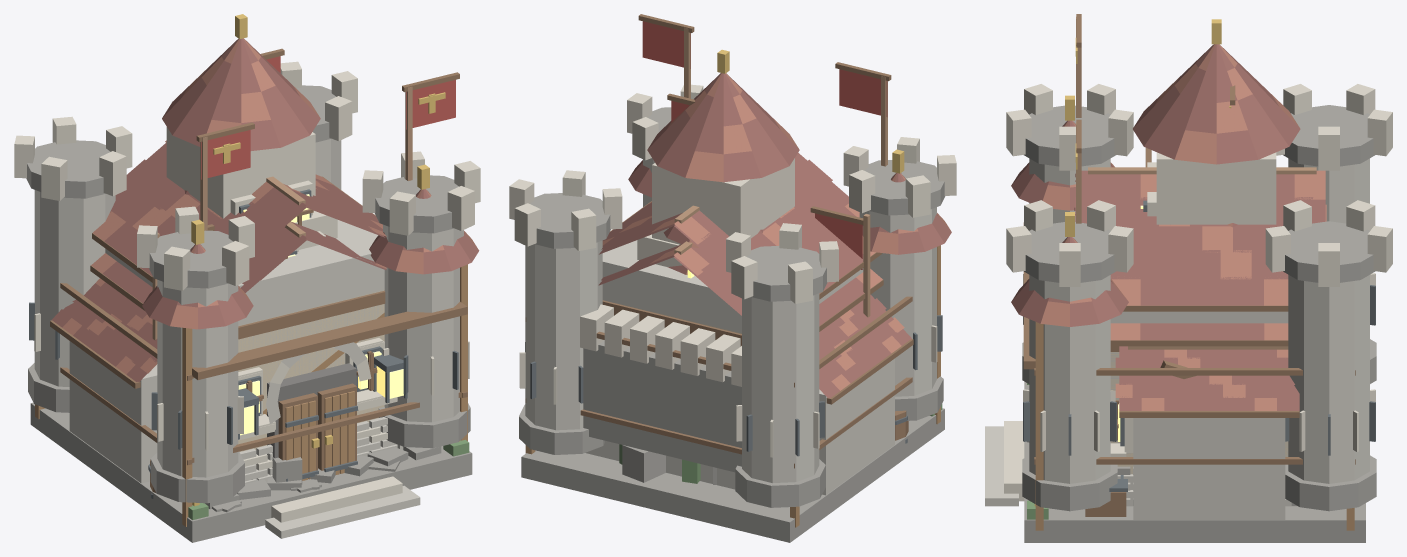
The model's file is headquarters_art.gltf.
The picture shows the model from 3 angles, left to right: view 1: azimuth 30°, elevation 25°; view 2: azimuth 150°, elevation 25°; view 3: azimuth 270°, elevation 25°; orthographic projection. The views are drawn at different scales.
Parts seen in each view (by area): view 1: Level_4, Level_1, Level_3, Level_2, Frame, Roof, Walls, Level_1_Broken, Ruins_Fresh, Damage_Marks; view 2: Level_4, Level_3, Level_1, Level_2, Roof, Frame, Ruins_Fresh; view 3: Level_4, Level_3, Level_2, Level_1, Frame, Roof.
Boxes of the visible parts, left/top/right/bottom form: Level_4: left=14, top=14, right=480, bottom=503; Level_1: left=30, top=48, right=472, bottom=542; Level_3: left=92, top=140, right=479, bottom=478; Level_2: left=50, top=224, right=214, bottom=483; Frame: left=35, top=264, right=467, bottom=526; Roof: left=90, top=221, right=386, bottom=310; Walls: left=238, top=289, right=397, bottom=451; Level_1_Broken: left=205, top=446, right=441, bottom=509; Ruins_Fresh: left=272, top=457, right=302, bottom=484; Damage_Marks: left=212, top=461, right=400, bottom=512; Level_4: left=509, top=14, right=956, bottom=507; Level_3: left=580, top=149, right=951, bottom=472; Level_1: left=521, top=93, right=944, bottom=542; Level_2: left=667, top=206, right=913, bottom=495; Roof: left=599, top=241, right=883, bottom=331; Frame: left=525, top=245, right=940, bottom=527; Ruins_Fresh: left=622, top=445, right=716, bottom=484; Level_4: left=1006, top=14, right=1392, bottom=511; Level_3: left=1011, top=95, right=1325, bottom=484; Level_2: left=1110, top=148, right=1299, bottom=519; Level_1: left=985, top=85, right=1365, bottom=542; Frame: left=1023, top=222, right=1355, bottom=530; Roof: left=1074, top=204, right=1326, bottom=346.
Bounding box in the file's own units: 2.23 × 2.78 × 2.28.
